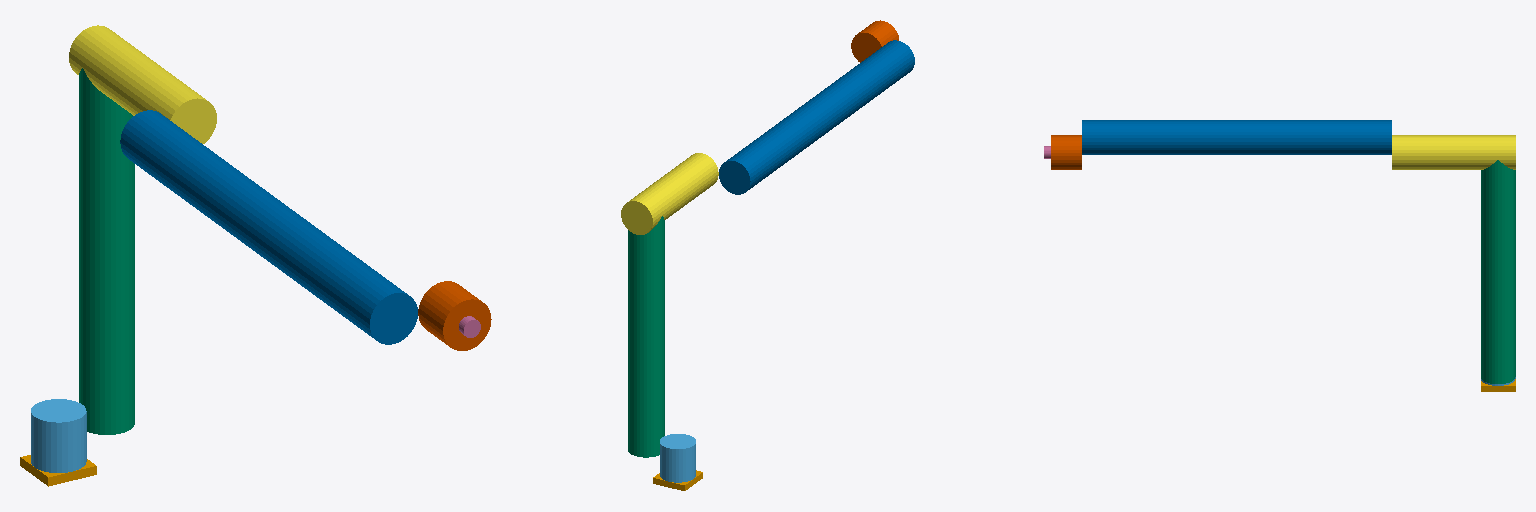
The robot description file, URDF, robot "rrrr_robot":
<?xml version="1.0" ?>
<robot name="rrrr_robot">

  <!-- Define the base link -->
  <link name="base_link">
    <visual>
      <origin xyz="0 0 -0.05" rpy="0 0 0"/>
      <geometry>
        <box size="0.56 0.56 0.1"/>
      </geometry>
    </visual>
  </link>

  <!-- Define joint 0 -->
  <joint name="joint0" type="revolute">
    <origin xyz="0 0 0" rpy="0 0 0"/>
    <parent link="base_link"/>
    <child link="link0"/>
    <axis xyz="0 0 1"/>
    <limit lower="-3.1416" upper="3.1416" effort="100" velocity="0.1"/>
  </joint>

  <!-- Define link 0 -->
  <link name="link0">
    <visual>
      <origin xyz="0 0 0.28" rpy="0 0 0"/>
      <geometry>
        <cylinder radius="0.28" length="0.56"/>
      </geometry>
    </visual>
  </link>

  <!-- Define joint 1 -->
  <joint name="joint1" type="revolute">
    <origin xyz="0.28 0 0.29" rpy="0 -1.5708 0"/>
    <parent link="link0"/>
    <child link="link1"/>
    <axis xyz="0 0 1"/>
    <limit lower="-1.5708" upper="1.5708" effort="100" velocity="0.1"/>
  </joint>

  <!-- Define link 1 -->
  <link name="link1">
    <visual>
      <origin xyz="2 0 -0.28" rpy="0 1.5708 0"/>
      <geometry>
        <cylinder radius="0.28" length="4.0"/>
      </geometry>
    </visual>
  </link>

  <!-- Define fixed joint between base_link and link1 -->
  <joint name="fixed_joint" type="fixed">
    <origin xyz="4 0.28 -0.28" rpy="1.5708 0 0"/>
    <parent link="link1"/>
    <child link="link1_1"/>
  </joint>

  <!-- Define link 1 -->
  <link name="link1_1">
    <visual>
      <origin xyz="0 0 1" rpy="0 0 0"/>
      <geometry>
        <cylinder radius="0.28" length="2.0"/>
      </geometry>
    </visual>
  </link>

  <!-- Define joint 2 -->
  <joint name="joint2" type="revolute">
    <origin xyz="0 0.28 2" rpy="-1.5708 0 0"/>
    <parent link="link1_1"/>
    <child link="link2"/>
    <axis xyz="0 0 1"/>
    <limit lower="-3.1416" upper="3.1416" effort="100" velocity="0.1"/>
  </joint>

  <!-- Define link 2 -->
  <link name="link2">
    <visual>
      <origin xyz="0 -2.5 0.28" rpy="1.5708 0 0"/>
      <geometry>
        <cylinder radius="0.28" length="5.0"/>
      </geometry>
    </visual>
  </link>

  <!-- Define joint 3 -->
  <joint name="joint3" type="revolute">
    <origin xyz="0 -5 0" rpy="1.5708 0 0"/>
    <parent link="link2"/>
    <child link="link_end"/>
    <axis xyz="0 1 0"/>
    <limit lower="-3.1416" upper="3.1416" effort="100" velocity="0.1"/>
  </joint>

  <!-- Define link 3 -->
  <link name="link_end">
    <visual>
      <origin xyz="0 -0.28 0.25" rpy="0 0 0"/>
      <geometry>
        <cylinder radius="0.28" length="0.5"/>
      </geometry>
    </visual>
  </link>

  
  <!-- Define fixed joint between base_link and link1 -->
  <joint name="joint_end" type="fixed">
    <origin xyz="0 -0.28 0.5" rpy="0 0 0"/>
    <parent link="link_end"/>
    <child link="link_end_point"/>
  </joint>

  <!-- Define link 3 -->
  <link name="link_end_point">
    <visual>
      <origin xyz="0 0 0.05" rpy="0 0 0"/>
      <geometry>
        <cylinder radius="0.1" length="0.1"/>
      </geometry>
    </visual>
  </link>

</robot>

--- What the picture shows (computed from the rendered views, not written in the file) ---
3 views of the same robot in one strip: view 1: azimuth 30°, elevation 25°; view 2: azimuth 150°, elevation 25°; view 3: azimuth 270°, elevation 25° (orthographic).
Robot: rrrr_robot — 7 links, 6 joints (4 revolute, 2 fixed); root link base_link; default pose: all joints at 0.
Visible links, largest first — view 1: link2, link1, link1_1, link0, link_end, base_link; view 2: link2, link1, link1_1, link0, link_end; view 3: link2, link1, link1_1, link_end.
Boxes of the visible links, <box> form: link2: <box>120,110,417,344</box>; link1: <box>79,68,134,434</box>; link1_1: <box>69,25,216,143</box>; link0: <box>31,399,86,472</box>; link_end: <box>418,281,491,350</box>; base_link: <box>20,455,96,486</box>; link2: <box>719,40,914,194</box>; link1: <box>628,216,664,457</box>; link1_1: <box>621,153,718,234</box>; link0: <box>660,434,695,482</box>; link_end: <box>851,20,898,62</box>; link2: <box>1082,120,1391,154</box>; link1: <box>1481,160,1515,383</box>; link1_1: <box>1392,135,1515,169</box>; link_end: <box>1051,135,1081,169</box>.
Bounding box of the posed robot: 1.12 × 7.6 × 4.67 m (x, y, z).
Geometry: primitives only (box / cylinder / sphere), no mesh files.